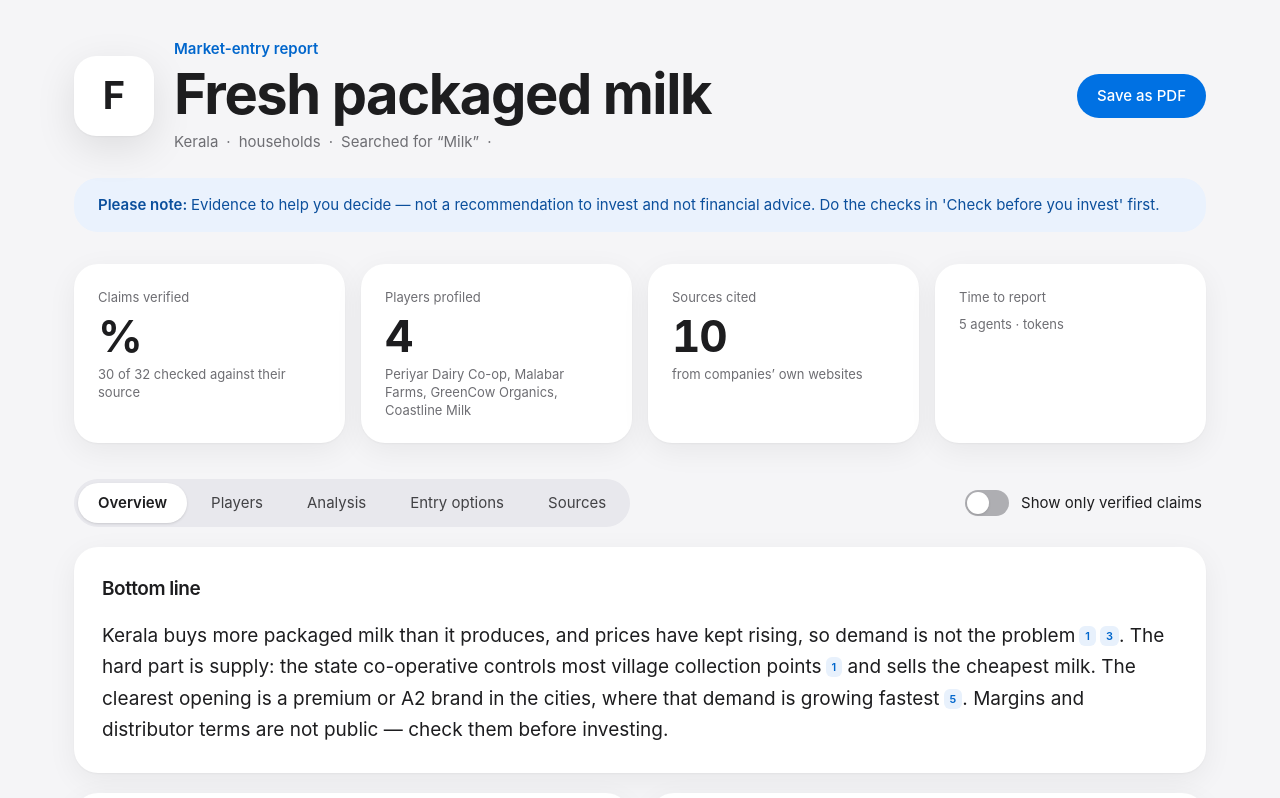
Test: ReportDashboard — market-entry report (M13) › analysis: five forces with ratings and evidence, unrated ones say so, signals for and against
Click the tab "Analysis". click: (337,503)
box: [287,483,386,523]
(page scrolled)
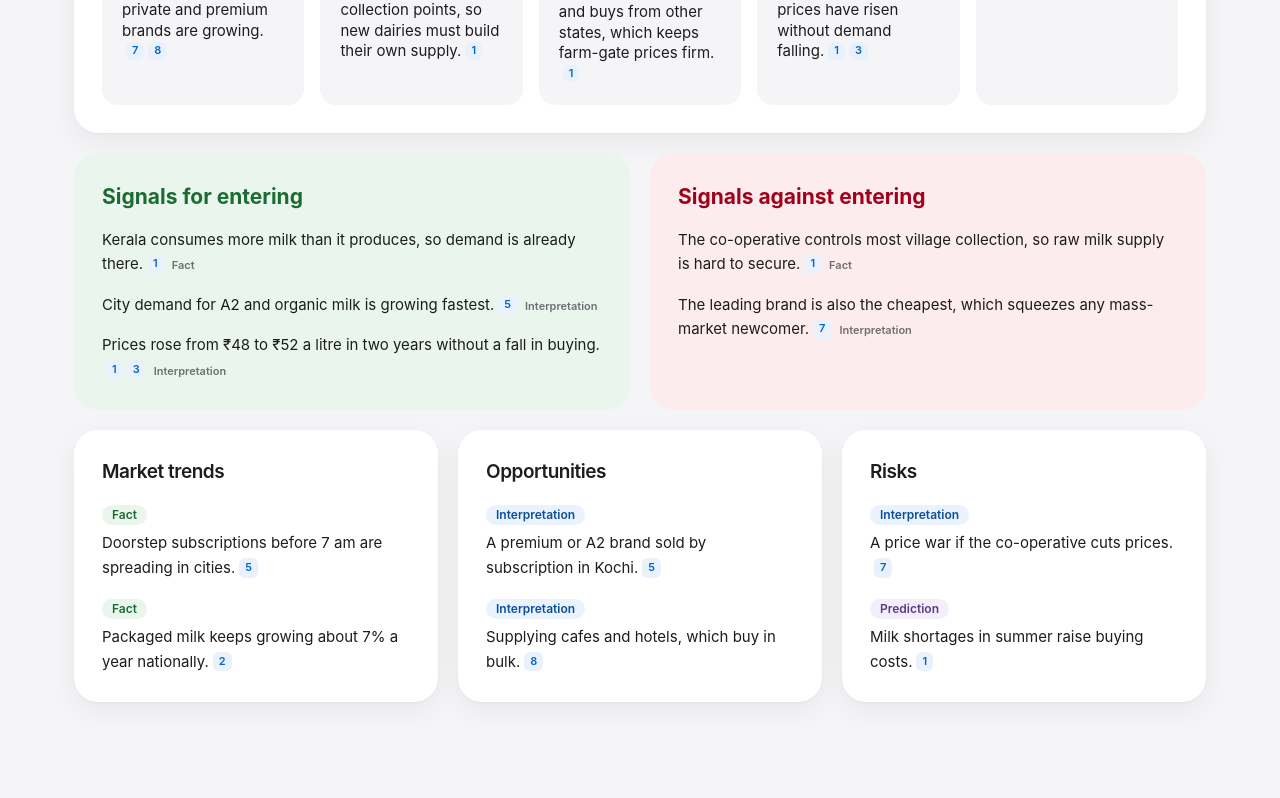
Result: the element labelled "Signals for entering" shows "consumes more milk than it produces" at [102,230,576,273]
Result: the element labelled "Signals against entering" shows "collection" at [678,230,1164,273]
Result: the heading "Risks" is shown at [870,460,917,483]
